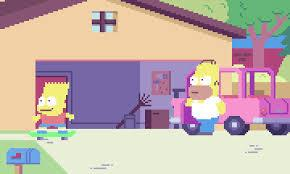Bart: (18, 76, 92, 147)
Homer: (180, 54, 234, 145)
